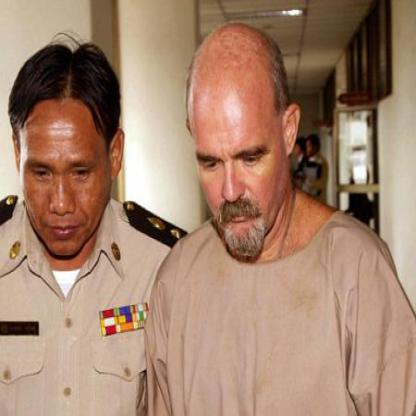face: (195, 38, 287, 256), (21, 67, 112, 260)
